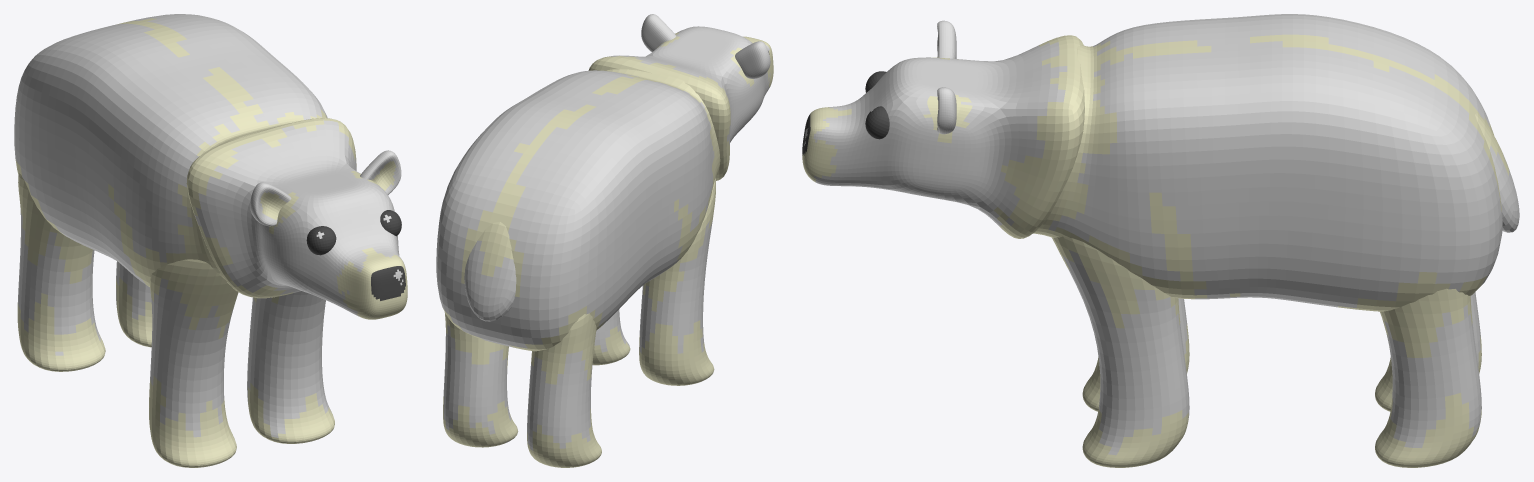
Rendered from isbjörn.fbx.
3 renders of one model, left to right at view 1: azimuth 30°, elevation 25°; view 2: azimuth 150°, elevation 25°; view 3: azimuth 270°, elevation 25°, orthographic. The views are drawn at different scales.
Visible parts, largest first — view 1: Cube, Cube.002, Cube.008, Cube.009, Cube.007, Cube.010, Cube.005, Cube.006, Cube.003, Cube.004; view 2: Cube, Cube.002, Cube.009, Cube.008, Cube.010, Cube.001, Cube.007, Cube.005, Cube.006; view 3: Cube, Cube.002, Cube.007, Cube.010, Cube.001, Cube.009, Cube.008, Cube.006.
Part boxes in pixels (x1,y1,x2,y2): Cube: (14,14,327,286); Cube.002: (186,118,407,319); Cube.008: (149,259,238,467); Cube.009: (17,173,105,371); Cube.007: (247,291,334,443); Cube.010: (116,261,152,347); Cube.005: (250,182,291,226); Cube.006: (360,150,401,194); Cube.003: (306,226,336,255); Cube.004: (380,210,401,236); Cube: (436,69,720,351); Cube.002: (588,26,773,180); Cube.009: (527,313,601,467); Cube.008: (639,178,715,385); Cube.010: (443,312,518,447); Cube.001: (464,221,516,321); Cube.007: (592,309,630,365); Cube.005: (735,41,770,78); Cube.006: (641,14,676,52); Cube: (1033,14,1502,311); Cube.002: (802,35,1084,238); Cube.007: (1052,236,1189,467); Cube.010: (1375,288,1481,467); Cube.001: (1475,113,1519,232); Cube.009: (1375,292,1481,411); Cube.008: (1082,298,1189,411); Cube.006: (937,87,956,134).
Size of the model in its own units: 170 by 307 by 513.
